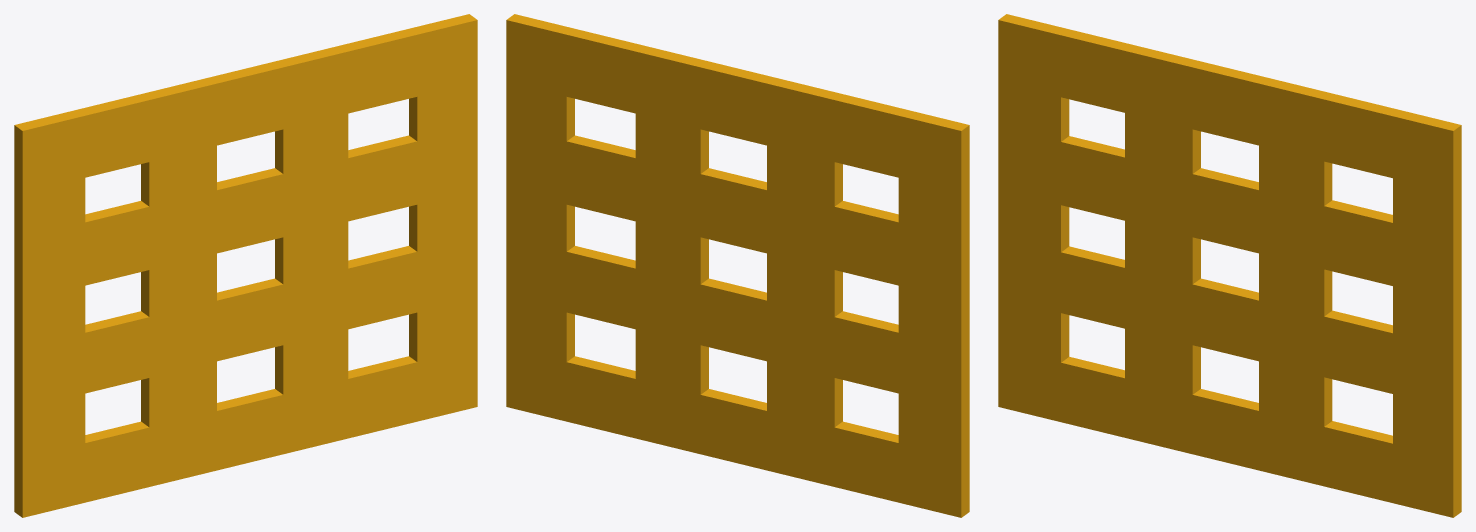
File: ATB-CONNECTOR-FIT-COUPON-P0.1.glb
The picture shows the model from 3 angles, left to right: view 1: azimuth 30°, elevation 25°; view 2: azimuth 150°, elevation 25°; view 3: azimuth 330°, elevation 25°; orthographic projection.
Parts seen in each view (by area): view 1: NINE-WINDOW-DIAGNOSTIC-COUPON; view 2: NINE-WINDOW-DIAGNOSTIC-COUPON; view 3: NINE-WINDOW-DIAGNOSTIC-COUPON.
Part boxes in pixels (x1=…): NINE-WINDOW-DIAGNOSTIC-COUPON: x1=14, y1=14, x2=477, y2=517; NINE-WINDOW-DIAGNOSTIC-COUPON: x1=506, y1=14, x2=969, y2=517; NINE-WINDOW-DIAGNOSTIC-COUPON: x1=998, y1=14, x2=1461, y2=517.
Bounding box in the file's own units: 96 × 78 × 3.
